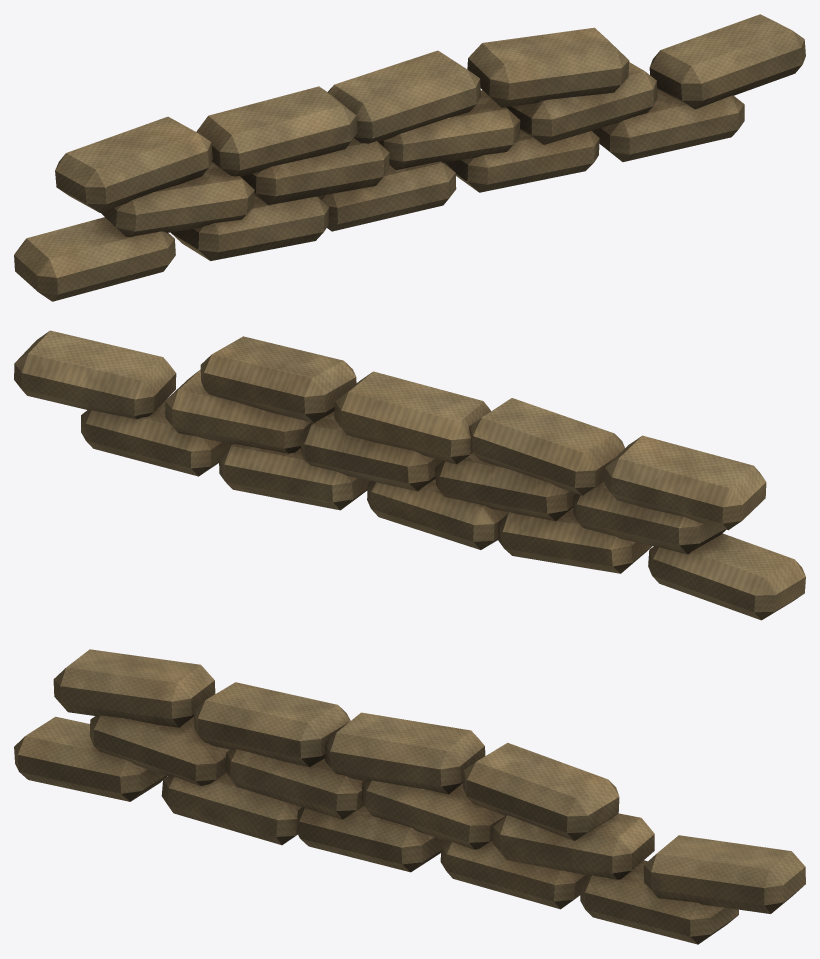
The model's file is Barricada_Sacos.glb.
The picture shows the model from 3 angles, top to bottom: view 1: azimuth 30°, elevation 25°; view 2: azimuth 150°, elevation 25°; view 3: azimuth 330°, elevation 25°; orthographic projection.
Parts seen in each view (by area): view 1: Barricada_Sacos; view 2: Barricada_Sacos; view 3: Barricada_Sacos.
Part boxes in pixels (x1,y1,x2,y2): Barricada_Sacos: (14,14,805,301); Barricada_Sacos: (14,330,805,620); Barricada_Sacos: (14,649,805,944).
Size of the model in its own units: 13.34 by 2.19 by 1.54.
Materials: 1 (1 with a texture image).
